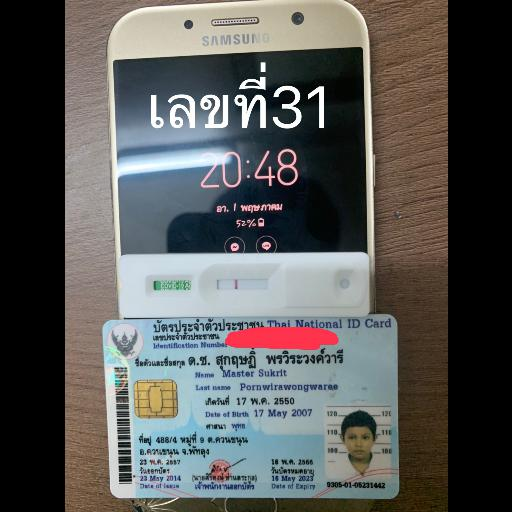Neg: (116, 252, 368, 316)
